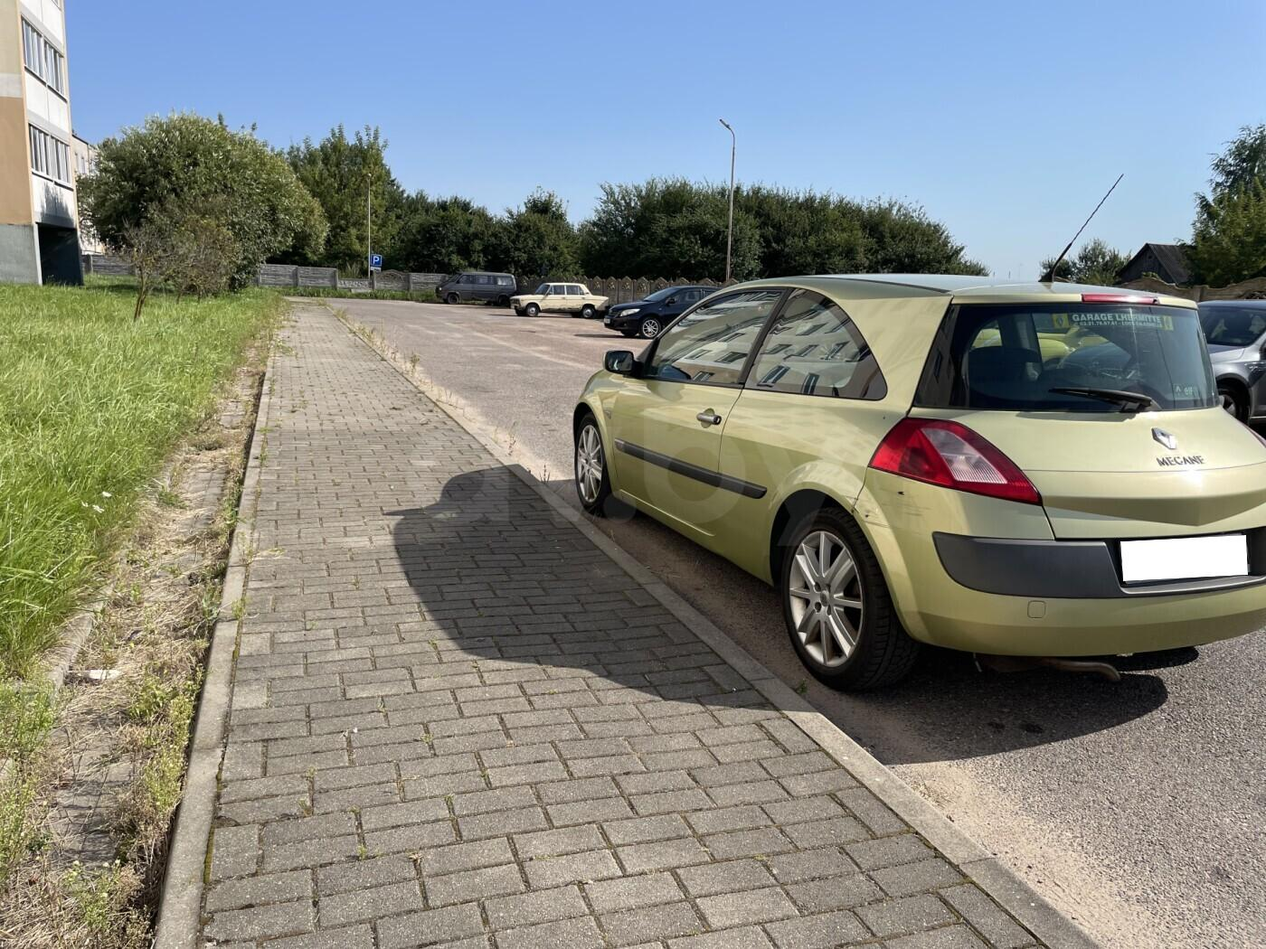Megane_2002-2006: (574, 270, 1266, 726)
